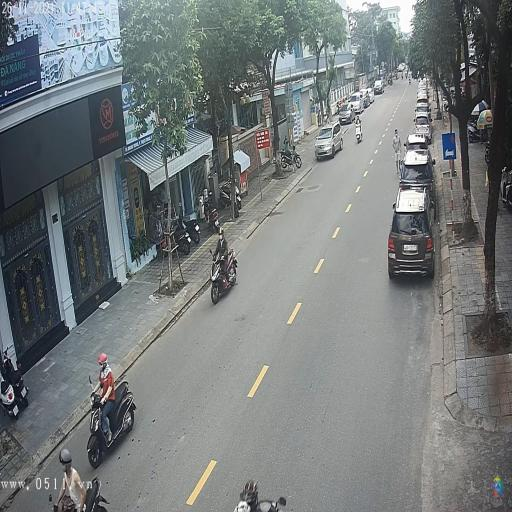car: (388, 191, 434, 280), (400, 147, 435, 191), (314, 123, 346, 160), (339, 101, 356, 123), (413, 117, 430, 134), (374, 79, 384, 94)
motorcycle: (87, 384, 137, 465), (211, 250, 236, 305), (354, 122, 364, 143)
